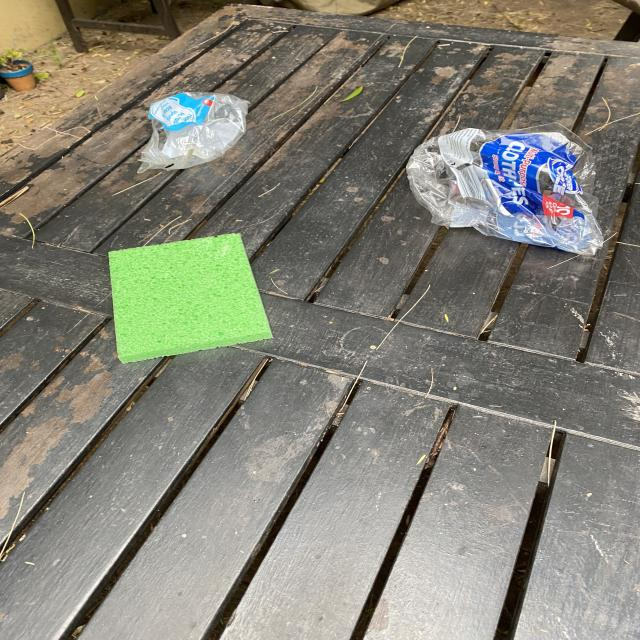sponge: (110, 233, 273, 364)
wrappers: (406, 122, 603, 256), (137, 92, 251, 174)
